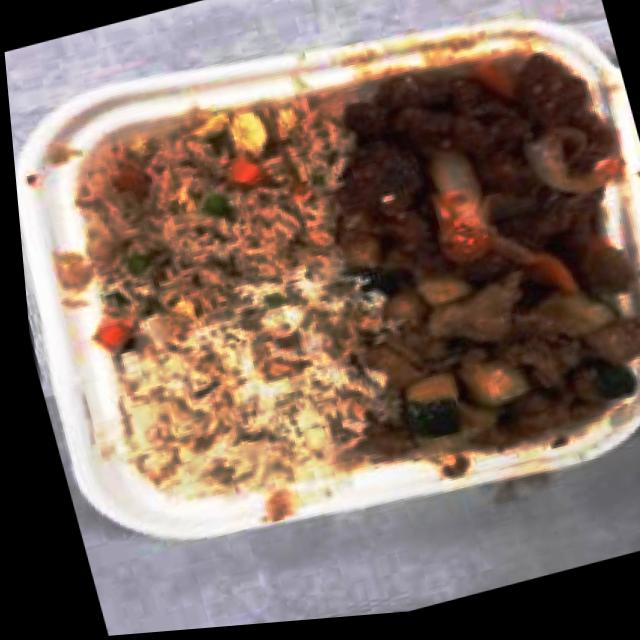Beijing Beef: (323, 40, 608, 296)
Fried Rice: (83, 103, 311, 329)
Kung Pao Chicken: (364, 223, 640, 463)
rice: (116, 287, 382, 508)
